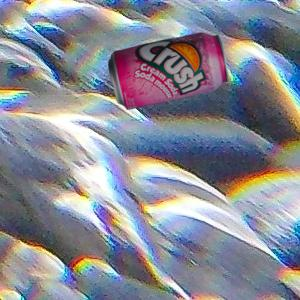can: (109, 31, 230, 112)
